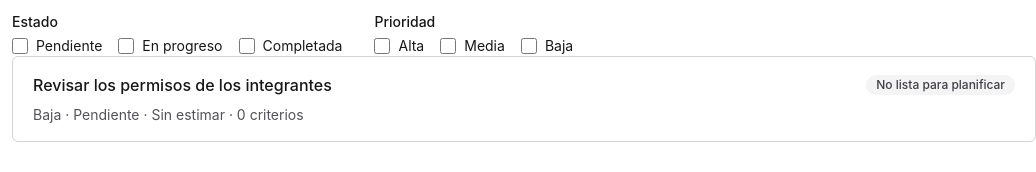
Test: 003/US2 - Ver el backlog ordenado y filtrado › Filtro sin coincidencias
Expected: the list item shows "Revisar los permisos de los integrantes", x1=33 y1=75 x2=332 y2=95
What coordinates should you click on to do the following:
click the checkbox labelled "Alta"
I would click on:
 (382, 46)
Its box is x1=374 y1=38 x2=390 y2=54.
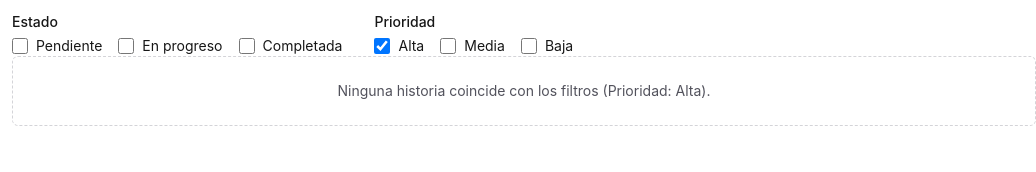
Result: the text "Ninguna historia coincide con los filtros (Prioridad: Alta)." is shown at x1=12 y1=56 x2=1035 y2=126
Result: no list items are shown
